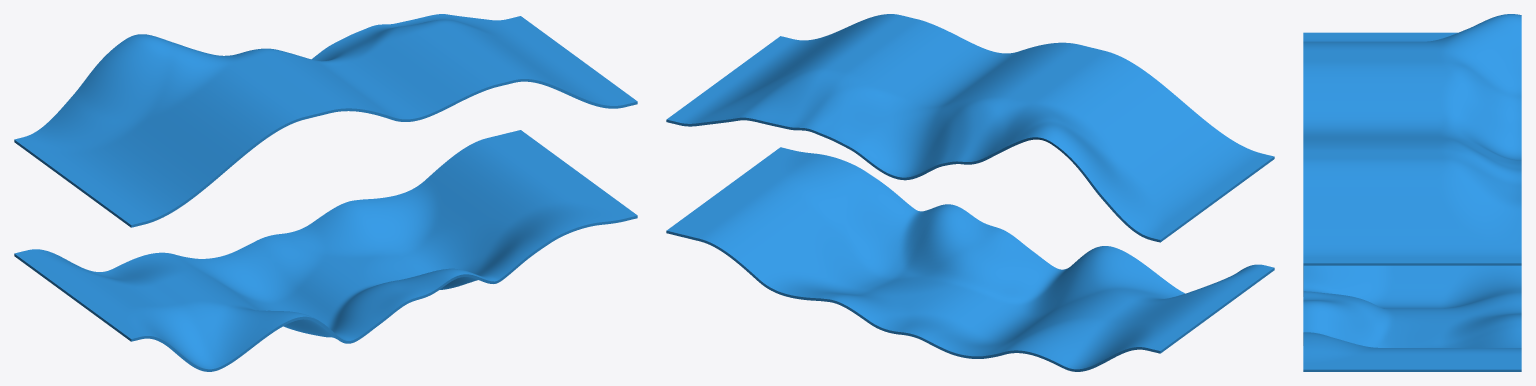
File: RiverStraight.fbx
3 renders of one model, left to right at view 1: azimuth 30°, elevation 25°; view 2: azimuth 150°, elevation 25°; view 3: azimuth 270°, elevation 25°, orthographic. The views are drawn at different scales.
Visible parts, largest first — view 1: River_Tile_Straight.003; view 2: River_Tile_Straight.003; view 3: River_Tile_Straight.003.
Part boxes in pixels (x1,y1,x2,y2): River_Tile_Straight.003: [14, 14, 637, 371]; River_Tile_Straight.003: [666, 14, 1274, 371]; River_Tile_Straight.003: [1303, 14, 1521, 371].
Bounding box in the file's own units: 100 × 49.94 × 40.05.
